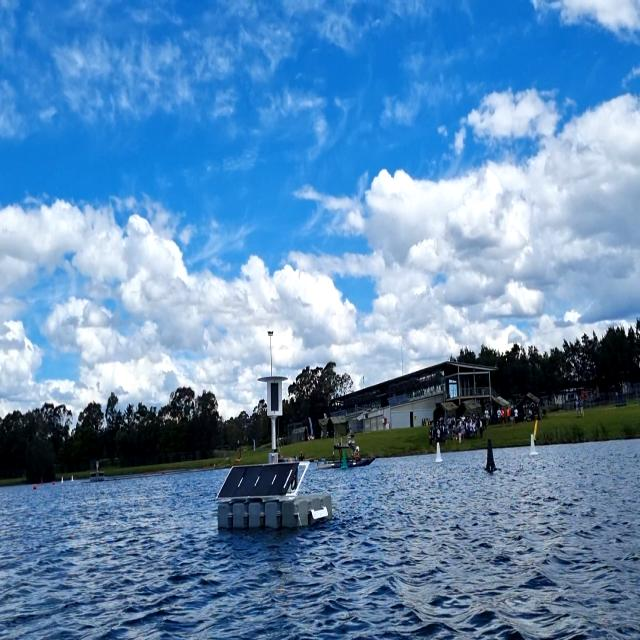led: (268, 381, 281, 413)
